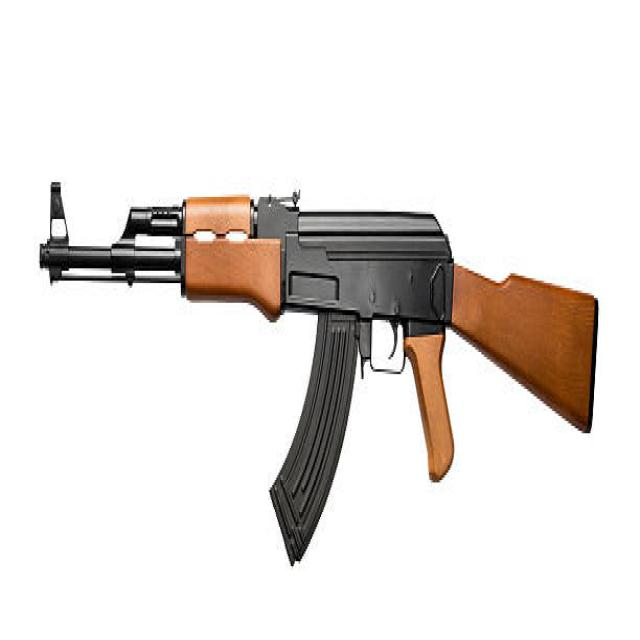rifle: (35, 157, 604, 581)
